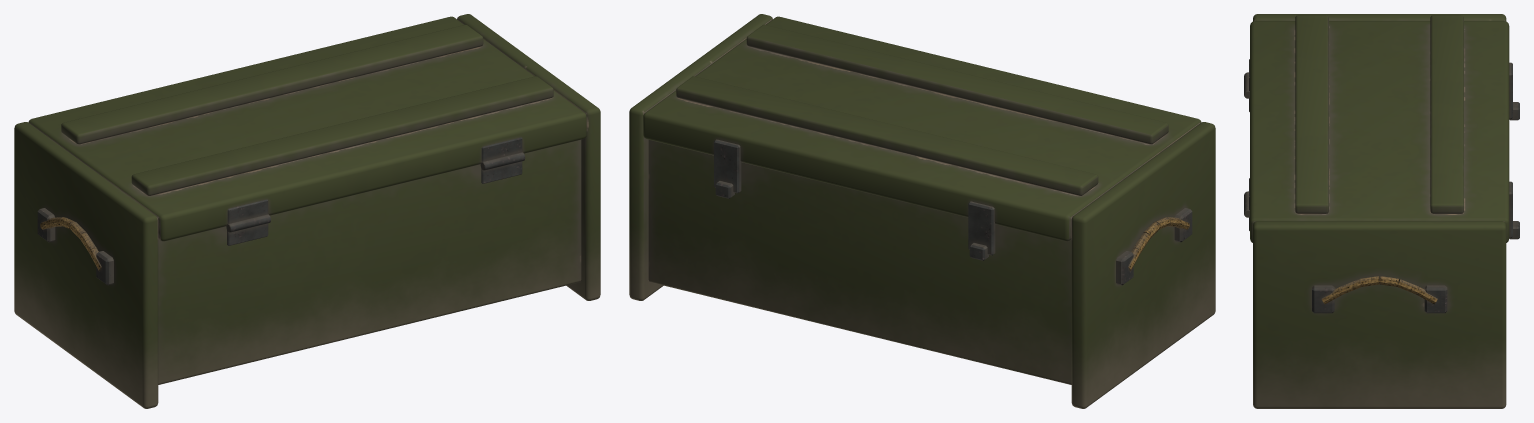
Rendered from SM_Crate_Ammo_Body.fbx.
The picture shows the model from 3 angles, left to right: view 1: azimuth 30°, elevation 25°; view 2: azimuth 150°, elevation 25°; view 3: azimuth 270°, elevation 25°; orthographic projection. The views are drawn at different scales.
Parts seen in each view (by area): view 1: Crate_Ammo_Body; view 2: Crate_Ammo_Body; view 3: Crate_Ammo_Body.
Boxes of the visible parts, box(x1,y1,x2,y2) form: Crate_Ammo_Body: box(14, 14, 600, 408); Crate_Ammo_Body: box(629, 14, 1215, 408); Crate_Ammo_Body: box(1244, 14, 1519, 408).
Bounding box in the file's own units: 0.4897 × 0.936 × 0.38.
Materials: 1 (1 with a texture image).
